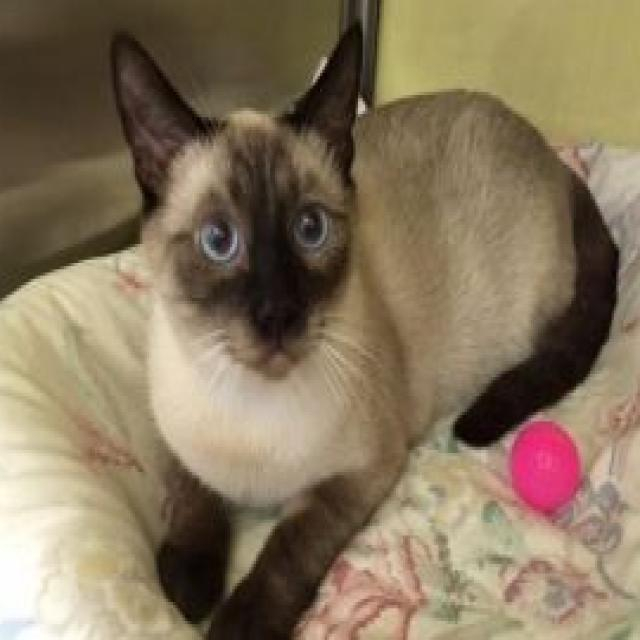Siamese: (104, 9, 623, 640)
